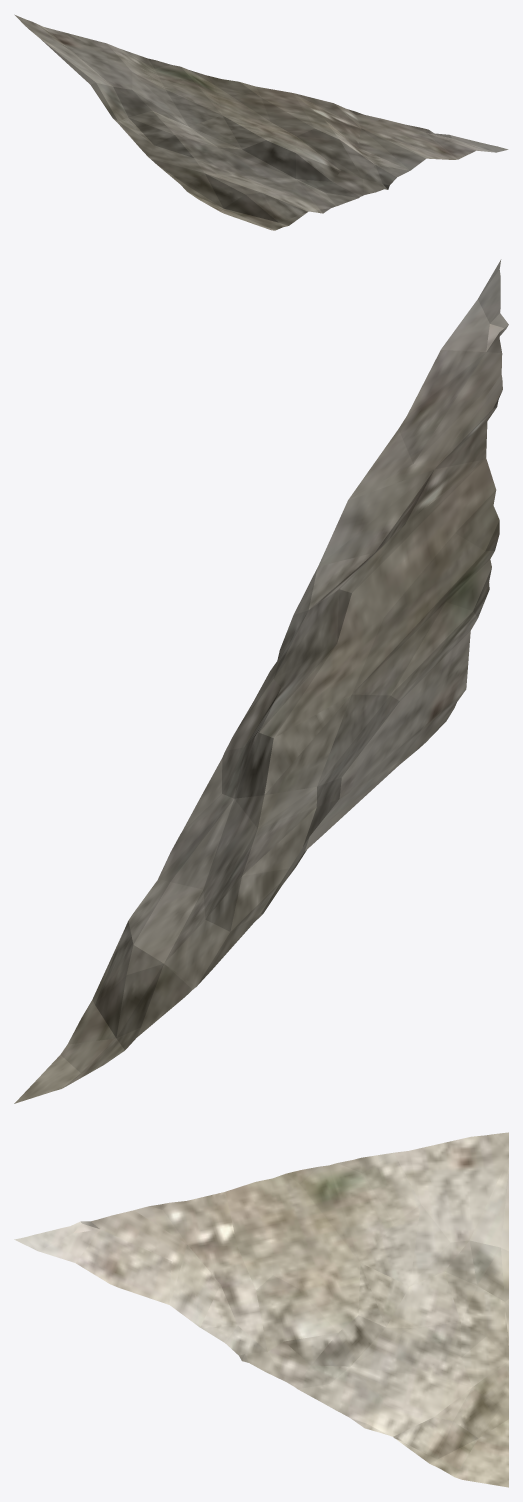
3 renders of one model, top to bottom at view 1: azimuth 30°, elevation 25°; view 2: azimuth 150°, elevation 25°; view 3: azimuth 270°, elevation 25°, orthographic. The views are drawn at different scales.
Bounding box in the file's own units: 1.08 × 1.16 × 2.1.
1 material, 1 textured.
